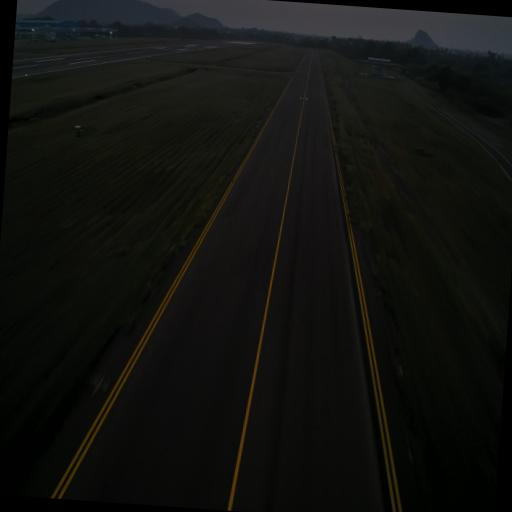on: (395, 361, 406, 378), (127, 312, 138, 328)
